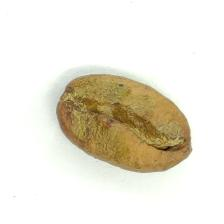NG: (64, 78, 167, 152)
